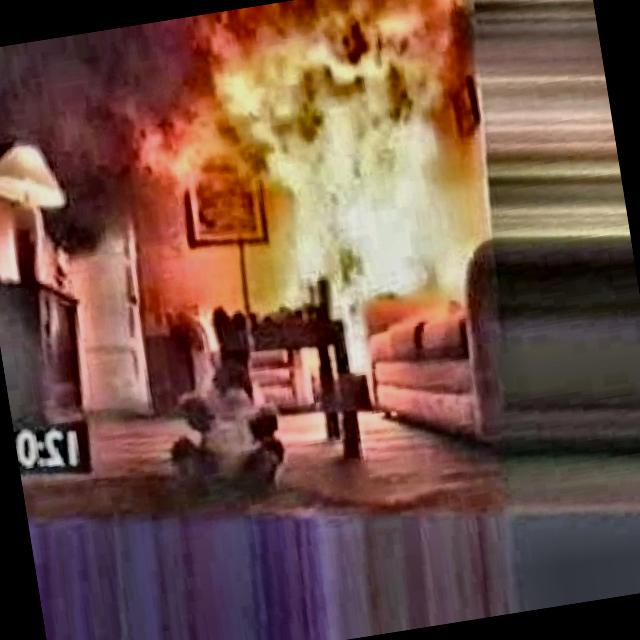fire: (129, 0, 514, 367)
smoke: (0, 20, 229, 260)
